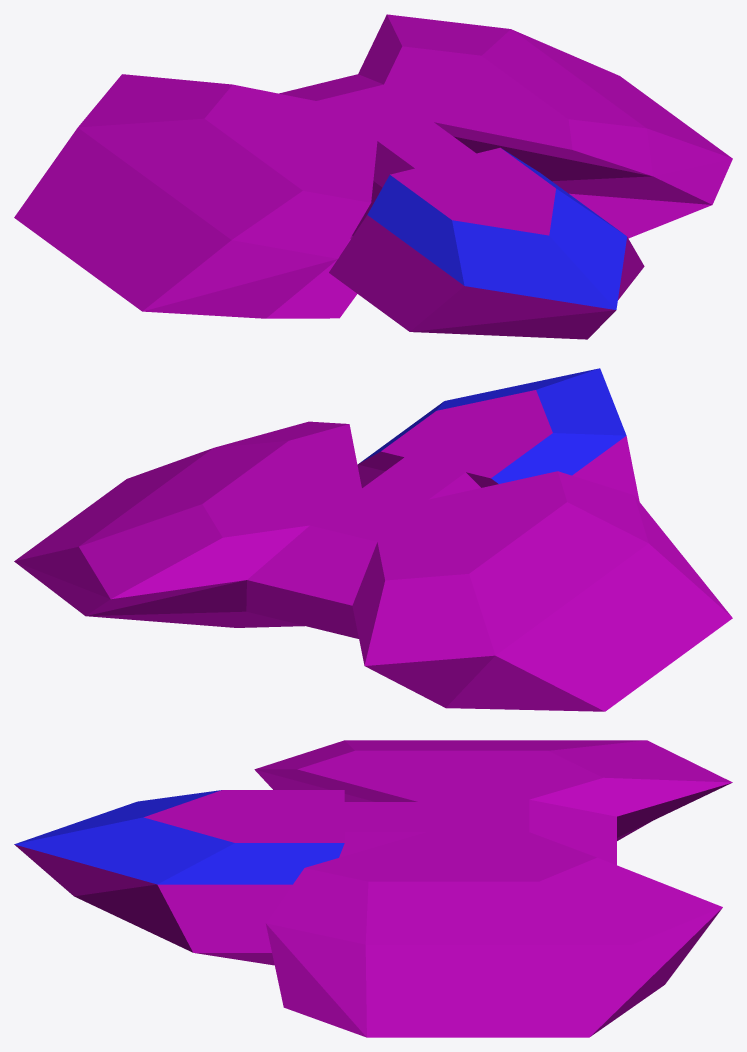
The model's file is enemyChoice.dae.
3 renders of one model, top to bottom at view 1: azimuth 30°, elevation 25°; view 2: azimuth 150°, elevation 25°; view 3: azimuth 270°, elevation 25°, orthographic.
Visible parts, largest first — view 1: SketchUp (×2); view 2: SketchUp (×2); view 3: SketchUp (×2).
Part boxes in pixels (x1,y1,x2,y2): SketchUp (×2): [14, 14, 732, 339]; SketchUp (×2): [14, 368, 732, 711]; SketchUp (×2): [14, 740, 732, 1037].
Bounding box in the file's own units: 129 × 136 × 24.45.
